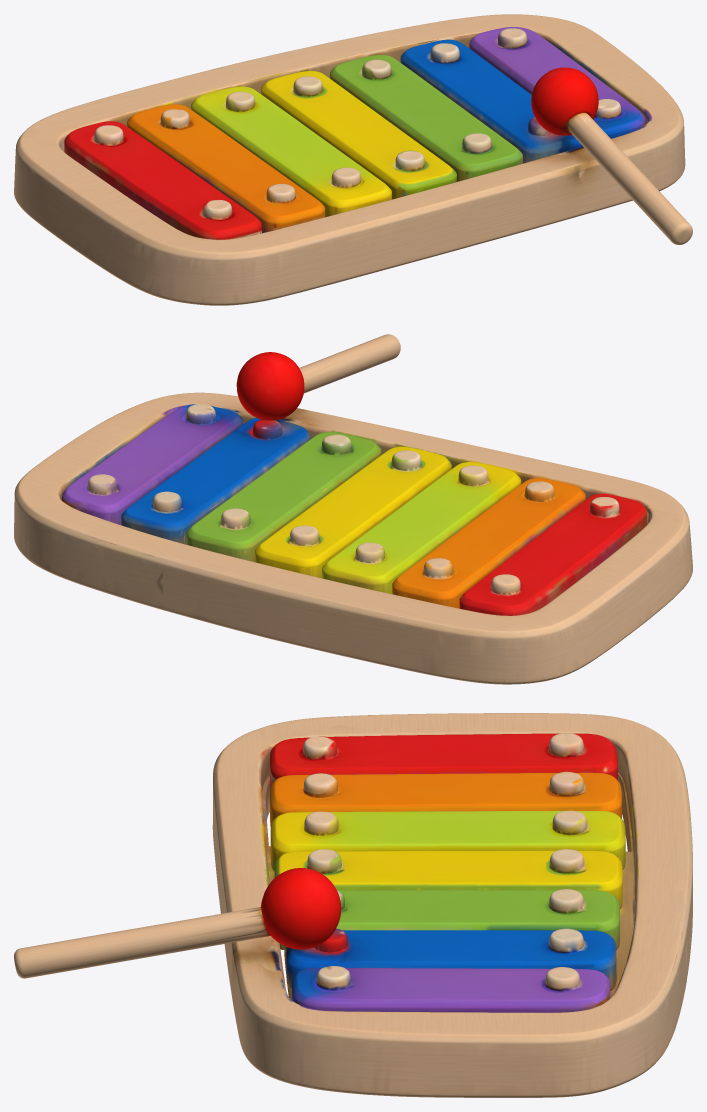
The model's file is board.glb.
3 views of the same model, one above another, from view 1: azimuth 30°, elevation 25°; view 2: azimuth 150°, elevation 25°; view 3: azimuth 270°, elevation 25° (orthographic). The views are drawn at different scales.
Parts seen in each view (by area): view 1: node_0; view 2: node_0; view 3: node_0.
Part boxes in pixels (x1,y1,x2,y2): node_0: (14, 14, 692, 305); node_0: (14, 334, 692, 684); node_0: (14, 713, 692, 1097).
Size of the model in its own units: 1 by 0.2078 by 0.8706.
Materials: 1 (1 with a texture image).
